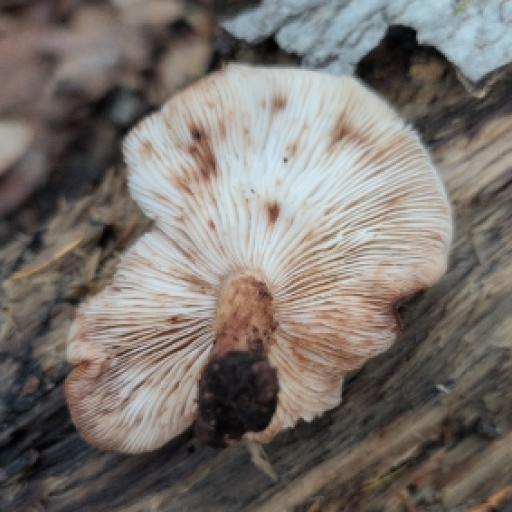Shiitake Mushroom: (61, 40, 475, 502)
